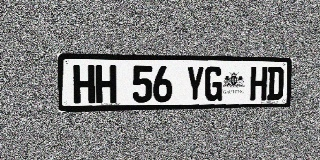5: (133, 65, 152, 103)
6: (153, 66, 172, 102)
D: (267, 67, 284, 100)
G: (204, 66, 223, 101)
H: (73, 65, 95, 104), (95, 65, 116, 103), (250, 67, 267, 100)
Y: (186, 66, 204, 102)
